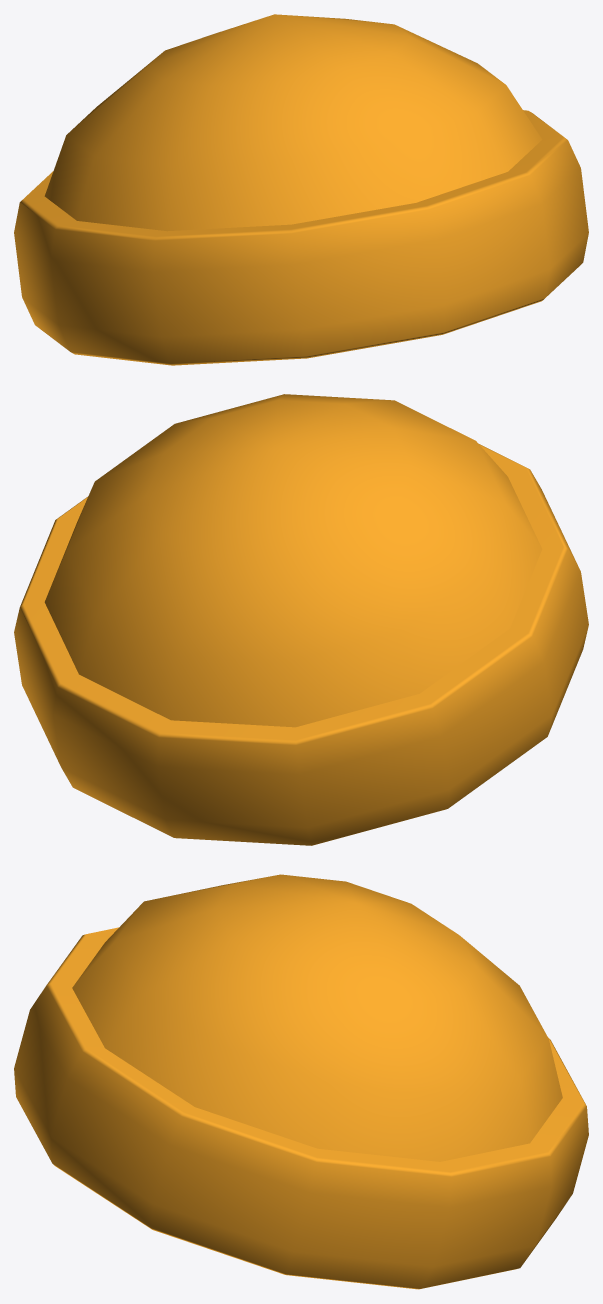
Rendered from Hat_052.glb.
The picture shows the model from 3 angles, top to bottom: view 1: azimuth 30°, elevation 25°; view 2: azimuth 150°, elevation 25°; view 3: azimuth 270°, elevation 25°; orthographic projection.
Visible parts, largest first — view 1: Hat_052; view 2: Hat_052; view 3: Hat_052.
Boxes of the visible parts, left/top/right/bottom form: Hat_052: left=14, top=14, right=588, bottom=365; Hat_052: left=14, top=394, right=588, bottom=845; Hat_052: left=14, top=874, right=588, bottom=1289.
Bounding box in the file's own units: 0.4936 × 0.3027 × 0.4979.
Materials: 1 (1 with a texture image).
